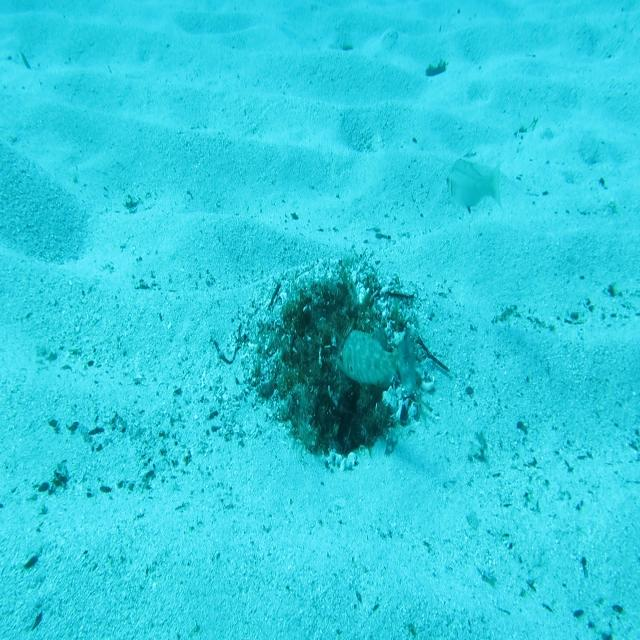AM: (336, 324, 418, 398)
core_nest: (313, 295, 355, 342)
female: (446, 156, 504, 217)
nest: (245, 249, 448, 482)
vegetation: (424, 59, 448, 78)
